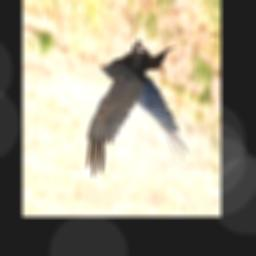Crow: (85, 39, 191, 179)
